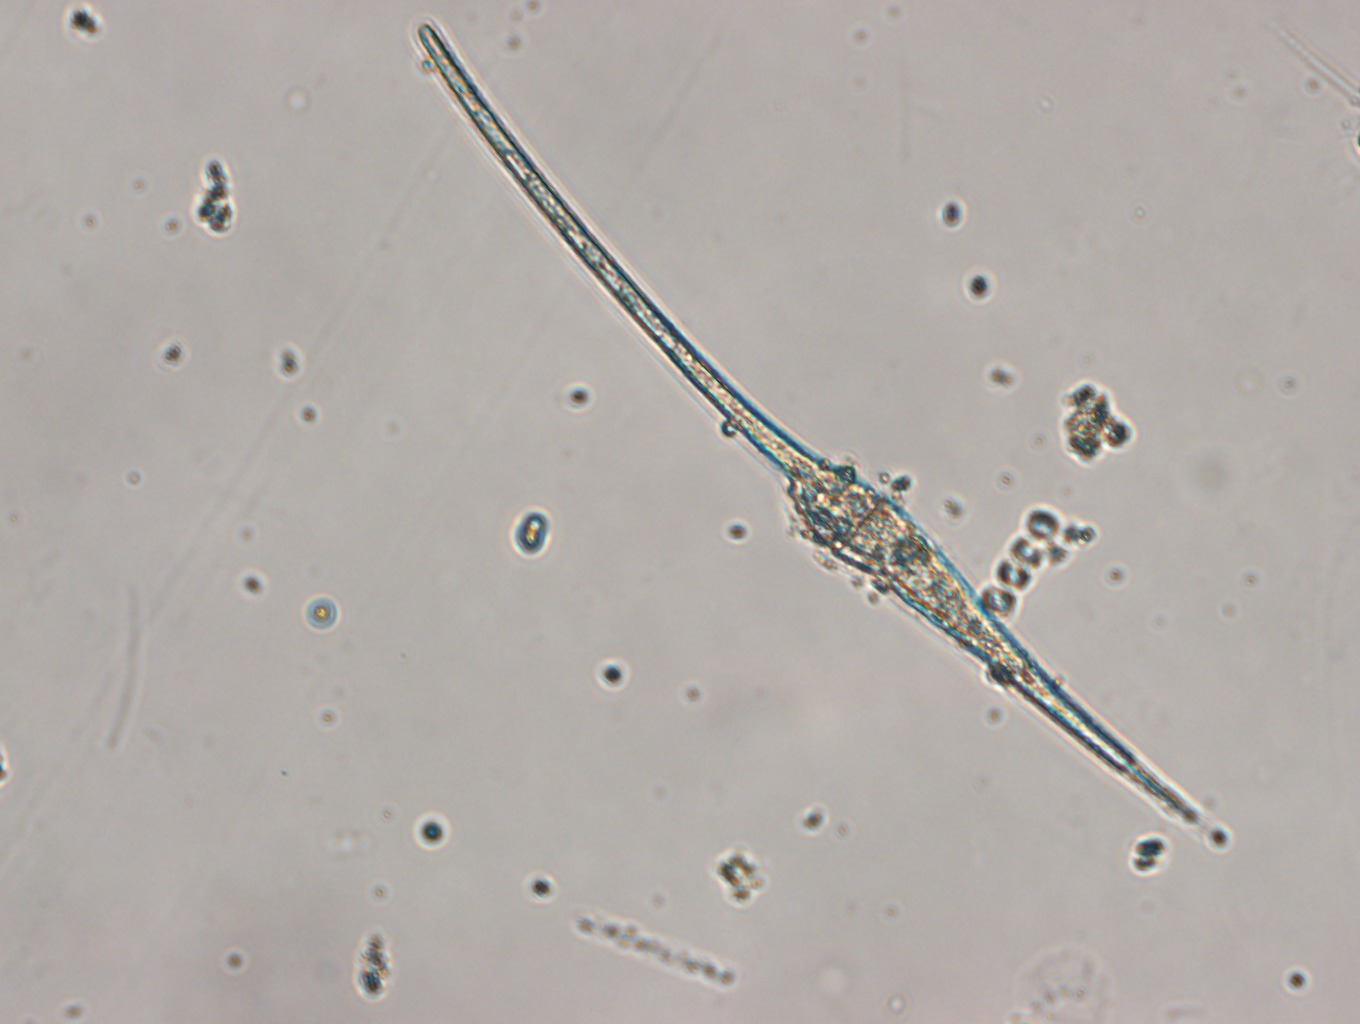ceratium fusus: (412, 16, 1235, 853)
